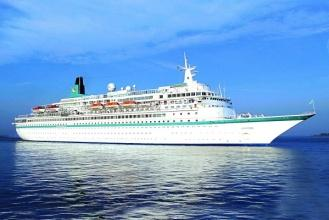youlun: (10, 61, 316, 143)
